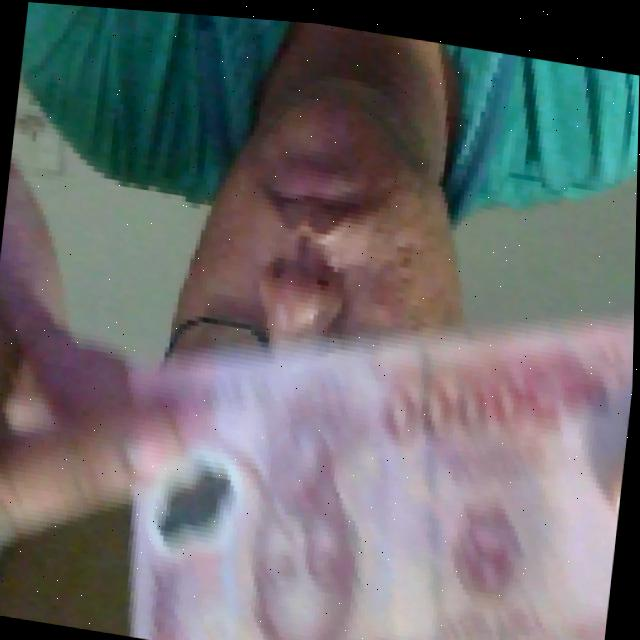50 000 VND: (102, 230, 636, 640)
